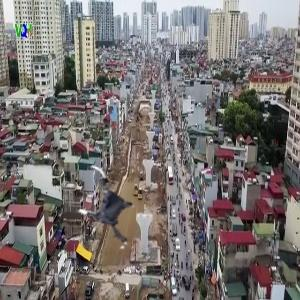drone: (65, 164, 154, 253)
